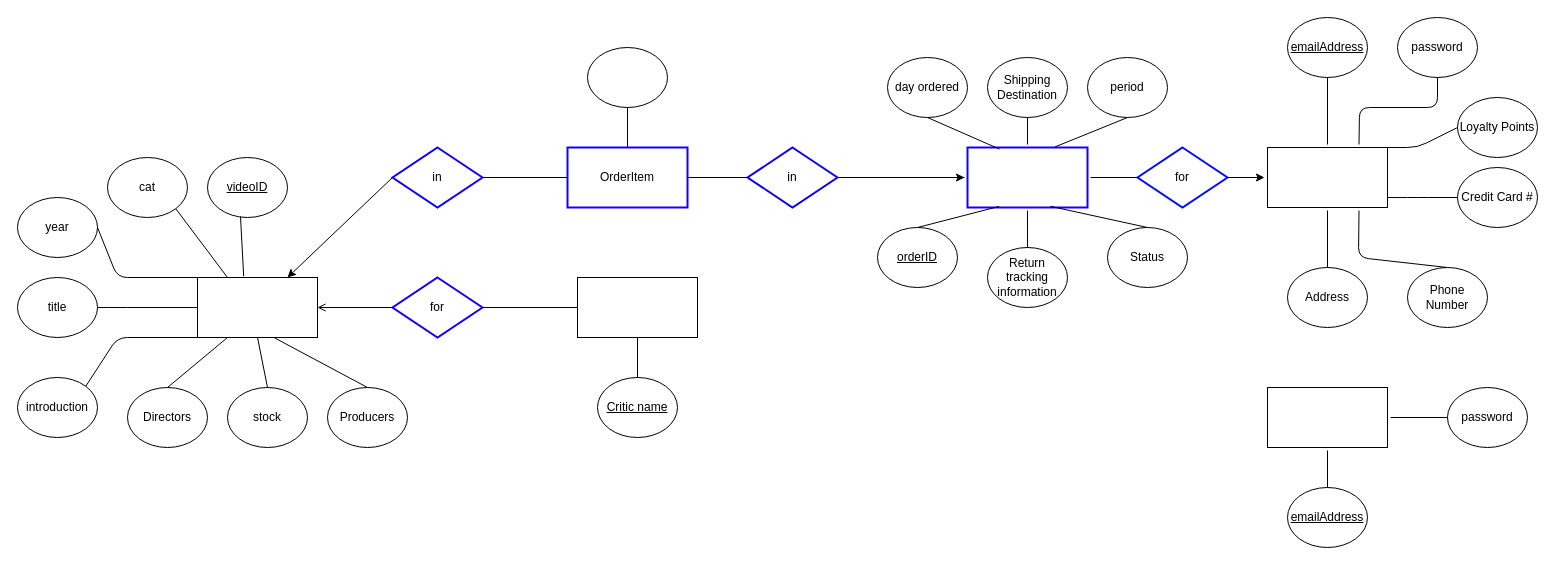
This 1555x565 diagram has some shape labels left out. The shapes that lost their labels are listed below. From the top down, each one's centre as x and y in pixels, then its label:
point 627,77: quantity
point 1027,177: Order
point 1327,177: Customer
point 257,307: Movie
point 637,307: Rating
point 1327,417: Manager
